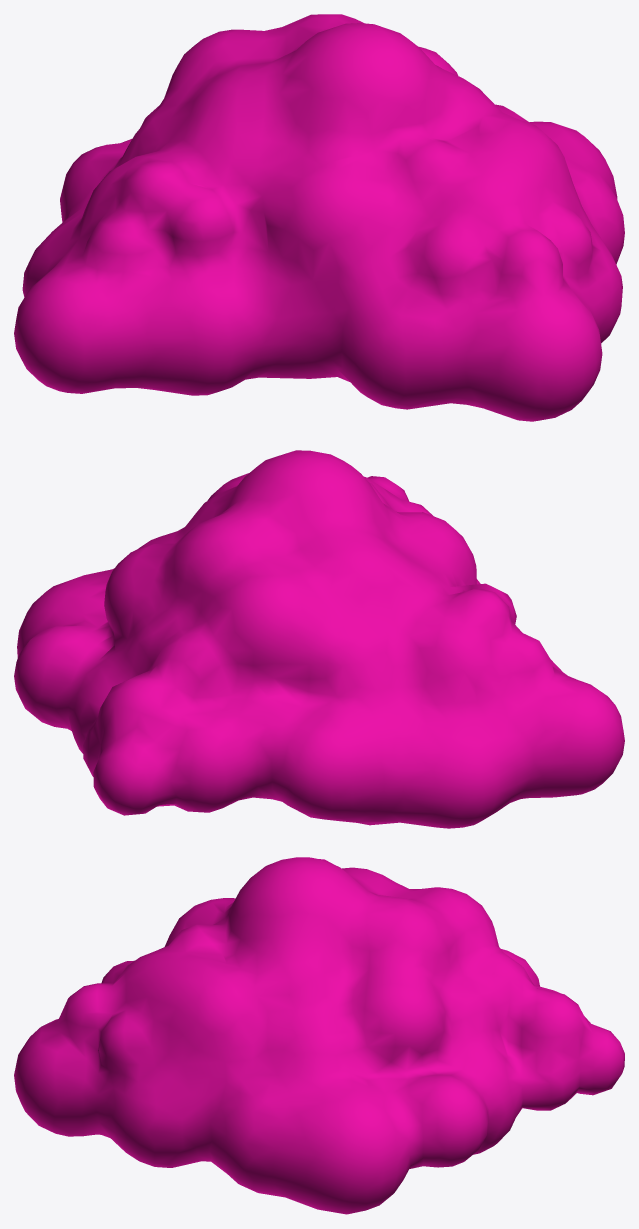
The model's file is Cloud 2.fbx.
3 views of the same model, one above another, from view 1: azimuth 30°, elevation 25°; view 2: azimuth 150°, elevation 25°; view 3: azimuth 270°, elevation 25° (orthographic). The views are drawn at different scales.
Parts seen in each view (by area): view 1: Mball.003; view 2: Mball.003; view 3: Mball.003.
Boxes of the visible parts, x1=… form: Mball.003: x1=14, y1=14, x2=624, y2=421; Mball.003: x1=14, y1=450, x2=624, y2=828; Mball.003: x1=14, y1=857, x2=624, y2=1214.
Bounding box in the file's own units: 1688 × 808 × 1727.
